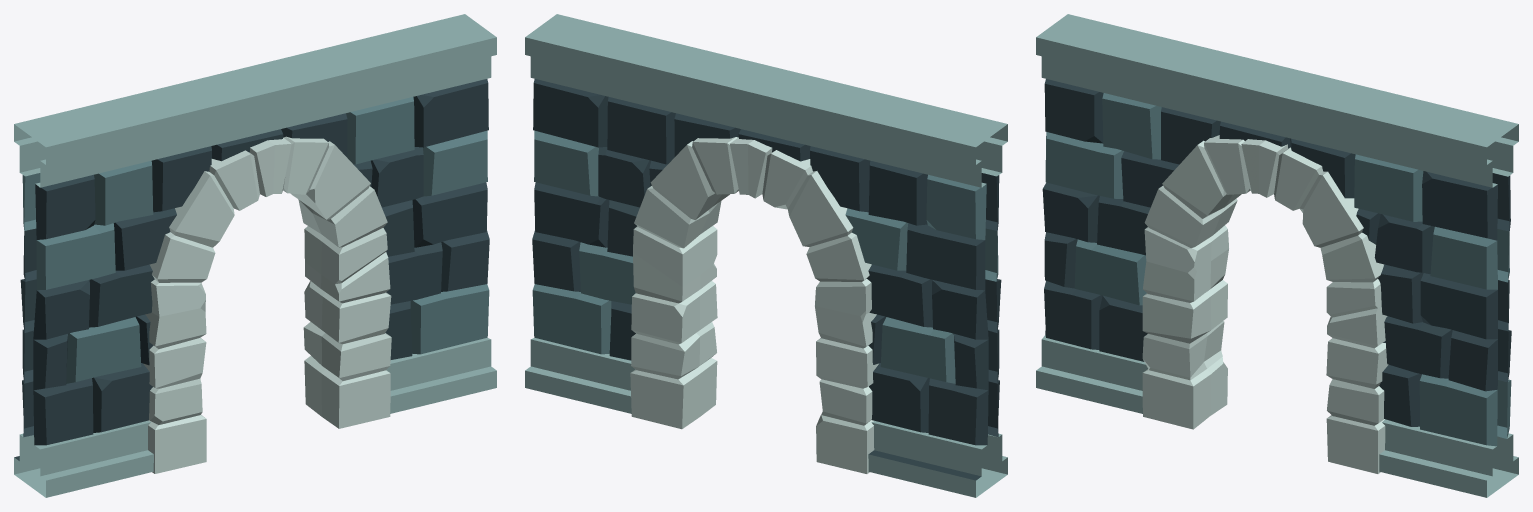
File: entrance 1.fbx
3 renders of one model, left to right at view 1: azimuth 30°, elevation 25°; view 2: azimuth 150°, elevation 25°; view 3: azimuth 330°, elevation 25°, orthographic.
Visible parts, largest first — view 1: entrance 1; view 2: entrance 1; view 3: entrance 1.
Part boxes in pixels (x1=…): entrance 1: x1=14, y1=14, x2=496, y2=497; entrance 1: x1=525, y1=14, x2=1007, y2=497; entrance 1: x1=1036, y1=14, x2=1518, y2=497.
Bounding box in the file's own units: 401 × 299 × 58.17.
Materials: 1 (1 with a texture image).
